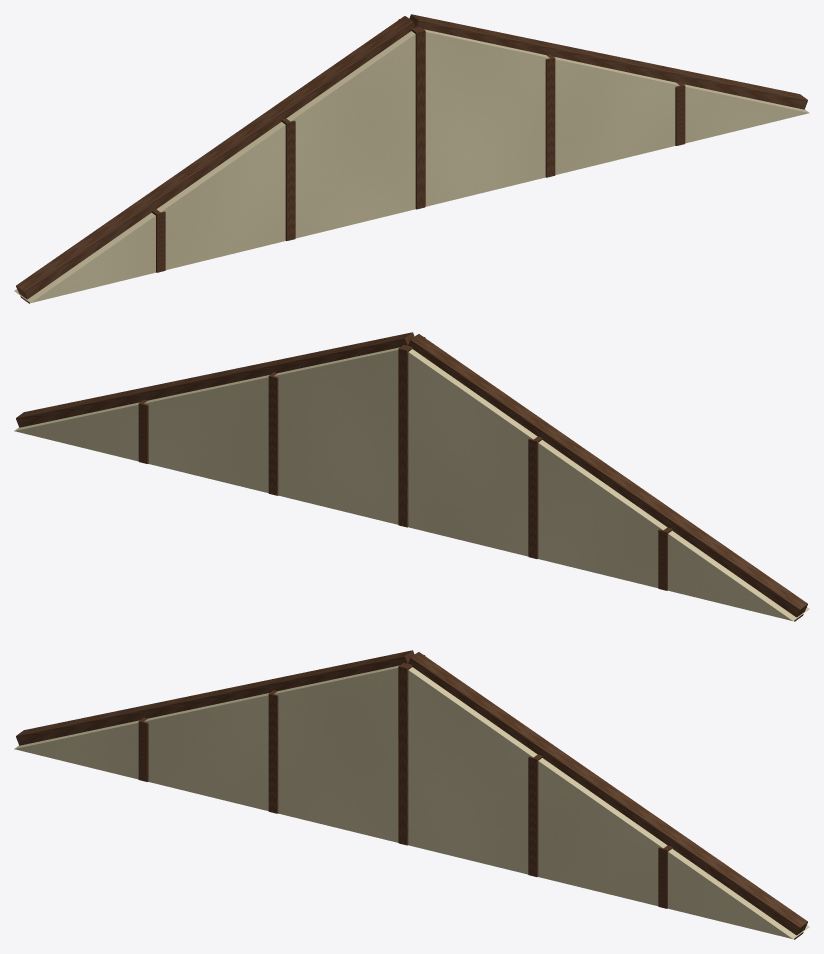
File: gable.gltf
The picture shows the model from 3 angles, top to bottom: view 1: azimuth 30°, elevation 25°; view 2: azimuth 150°, elevation 25°; view 3: azimuth 330°, elevation 25°; orthographic projection.
Bounding box in the file's own units: 5.44 × 1.25 × 0.22.
Materials: 2 (2 with a texture image).
